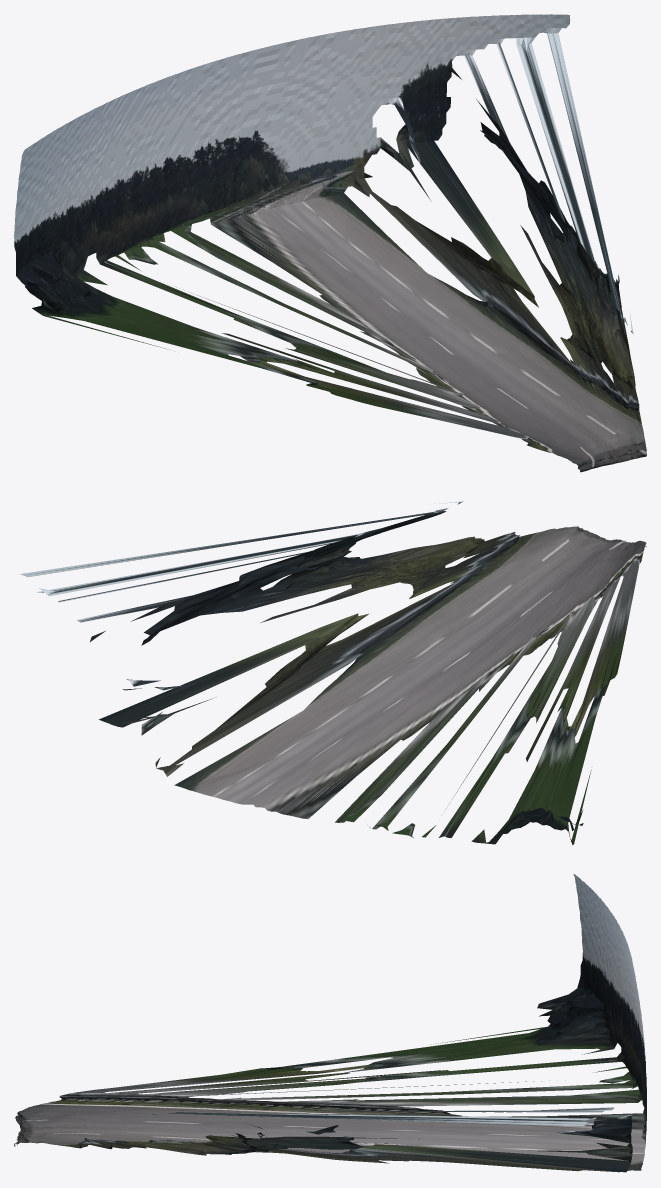
3 views of the same model, one above another, from view 1: azimuth 30°, elevation 25°; view 2: azimuth 150°, elevation 25°; view 3: azimuth 270°, elevation 25° (orthographic). The views are drawn at different scales.
Parts seen in each view (by area): view 1: defaultobject; view 2: defaultobject; view 3: defaultobject.
Part boxes in pixels (x1=…): defaultobject: x1=14, y1=14, x2=646, y2=472; defaultobject: x1=20, y1=501, x2=646, y2=845; defaultobject: x1=14, y1=874, x2=646, y2=1172.
Size of the model in its own units: 40.23 by 12.16 by 44.48.
1 material, 1 textured.
